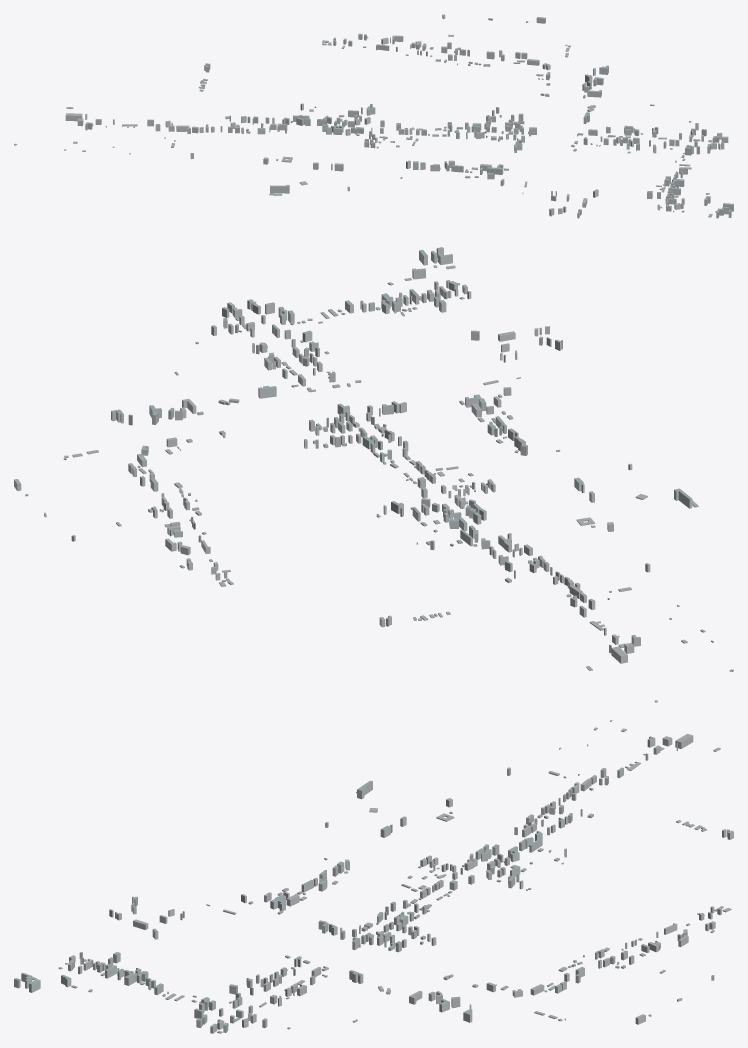
Rendered from far.glb.
3 views of the same model, one above another, from view 1: azimuth 30°, elevation 25°; view 2: azimuth 150°, elevation 25°; view 3: azimuth 270°, elevation 25° (orthographic). The views are drawn at different scales.
Size of the model in its own units: 1825 by 22.5 by 1669.
